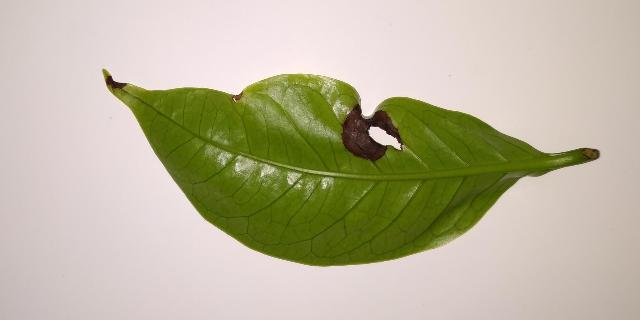rust: (342, 104, 402, 161), (106, 76, 126, 88), (233, 93, 242, 100)
